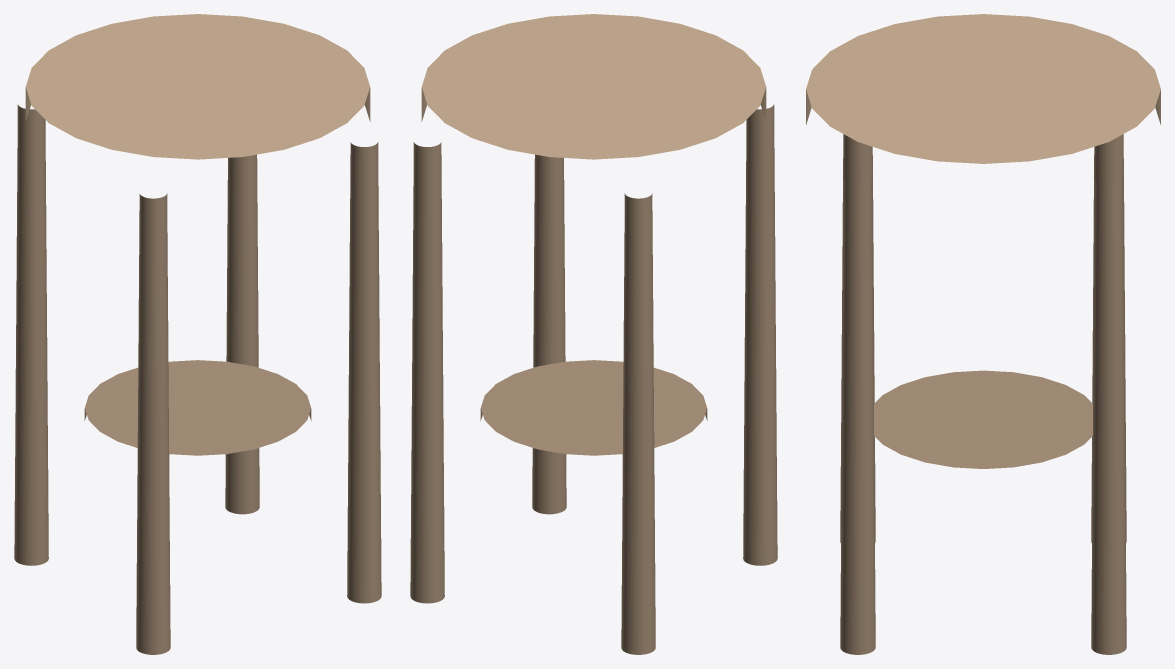
Rendered from stool.glb.
The picture shows the model from 3 angles, left to right: view 1: azimuth 30°, elevation 25°; view 2: azimuth 150°, elevation 25°; view 3: azimuth 270°, elevation 25°; orthographic projection. The views are drawn at different scales.
Parts seen in each view (by area): view 1: leg (×4), seat, ring; view 2: leg (×4), seat, ring; view 3: seat, leg (×4), ring.
Boxes of the visible parts, left/top/right/bottom form: leg (×4): left=14, top=104, right=381, bottom=654; seat: left=25, top=14, right=370, bottom=159; ring: left=84, top=360, right=311, bottom=455; leg (×4): left=410, top=104, right=777, bottom=654; seat: left=421, top=14, right=766, bottom=159; ring: left=480, top=360, right=707, bottom=455; seat: left=806, top=14, right=1160, bottom=163; leg (×4): left=840, top=134, right=1126, bottom=654; ring: left=874, top=370, right=1092, bottom=468.
Bounding box in the file's own units: 0.3556 × 0.5588 × 0.3556.
